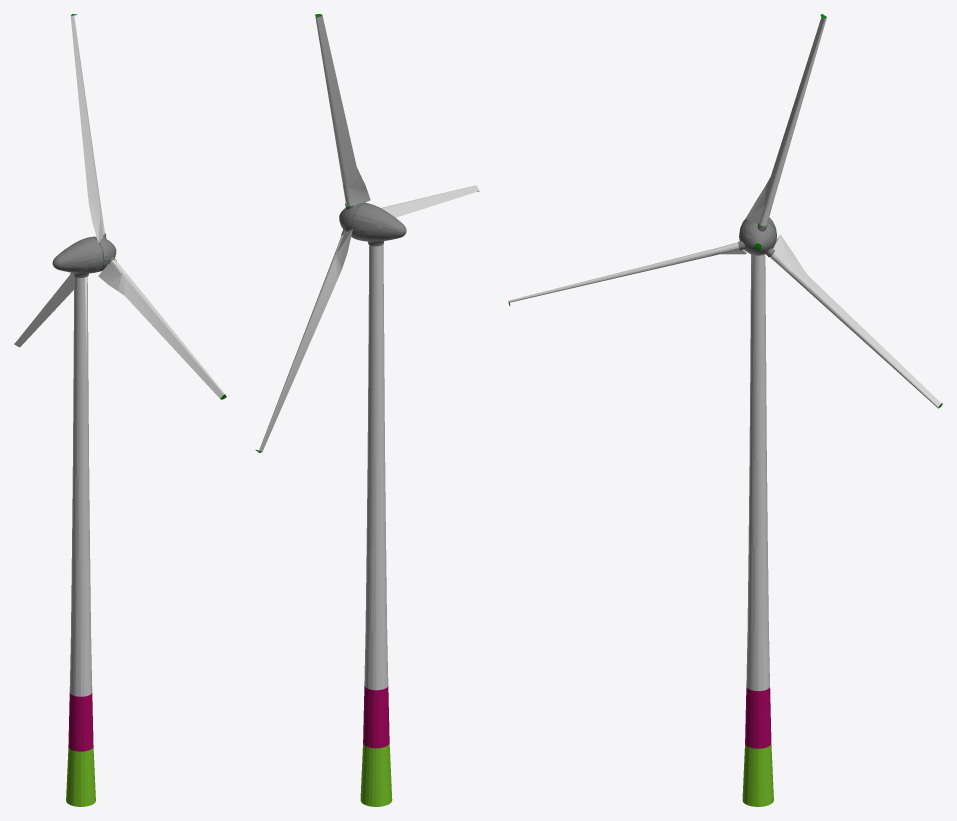
Rendered from Enercon_E82_100m.gltf.
The picture shows the model from 3 angles, left to right: view 1: azimuth 30°, elevation 25°; view 2: azimuth 150°, elevation 25°; view 3: azimuth 270°, elevation 25°; orthographic projection. The views are drawn at different scales.
Parts seen in each view (by area): view 1: root; view 2: root; view 3: root.
Part boxes in pixels (x1,y1,x2,y2): root: [14, 14, 226, 806]; root: [255, 14, 479, 806]; root: [508, 14, 942, 806].
Bounding box in the file's own units: 11.93 × 140 × 69.01.
